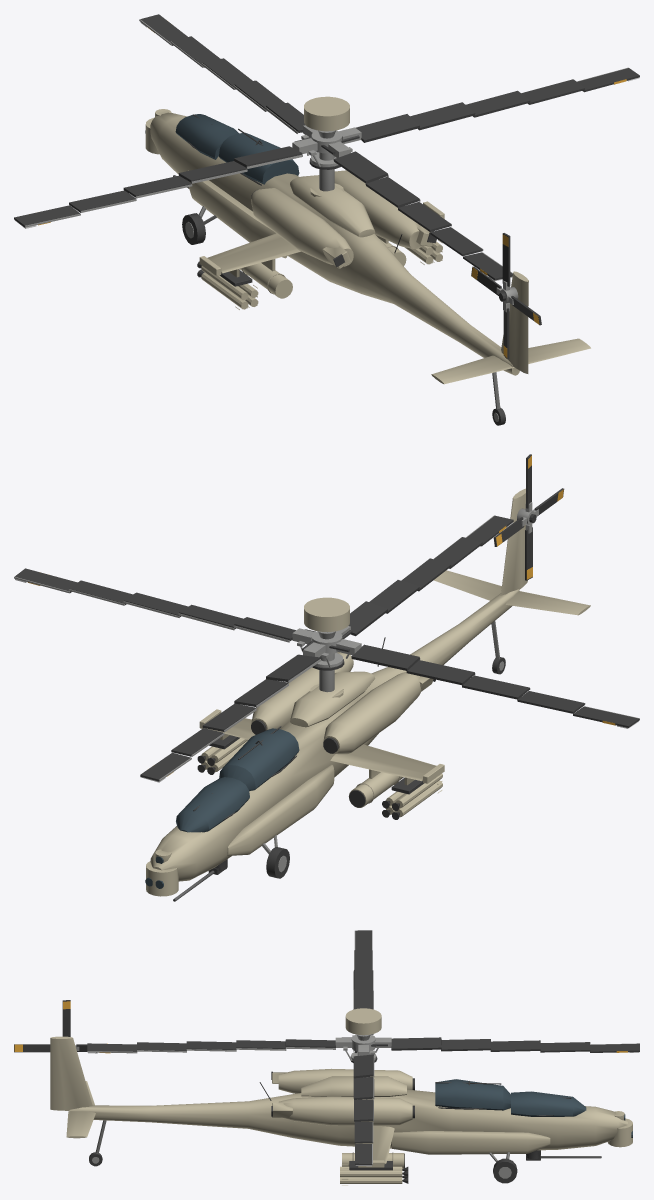
The model's file is heli_usa.glb.
3 renders of one model, top to bottom at view 1: azimuth 30°, elevation 25°; view 2: azimuth 150°, elevation 25°; view 3: azimuth 270°, elevation 25°, orthographic. The views are drawn at different scales.
Visible parts, largest first — view 1: body, rotor, trotor; view 2: body, rotor, trotor; view 3: body, rotor, trotor.
Boxes of the visible parts, x1,y1,x2,y2 form: body: (145,96,590,425); rotor: (14,14,639,281); trotor: (471,233,541,359); body: (145,488,590,901); rotor: (14,515,639,782); trotor: (493,454,564,580); body: (50,1008,632,1185); rotor: (87,930,639,1166); trotor: (14,1000,87,1052).
Size of the model in its own units: 14.64 by 4.71 by 16.59.
